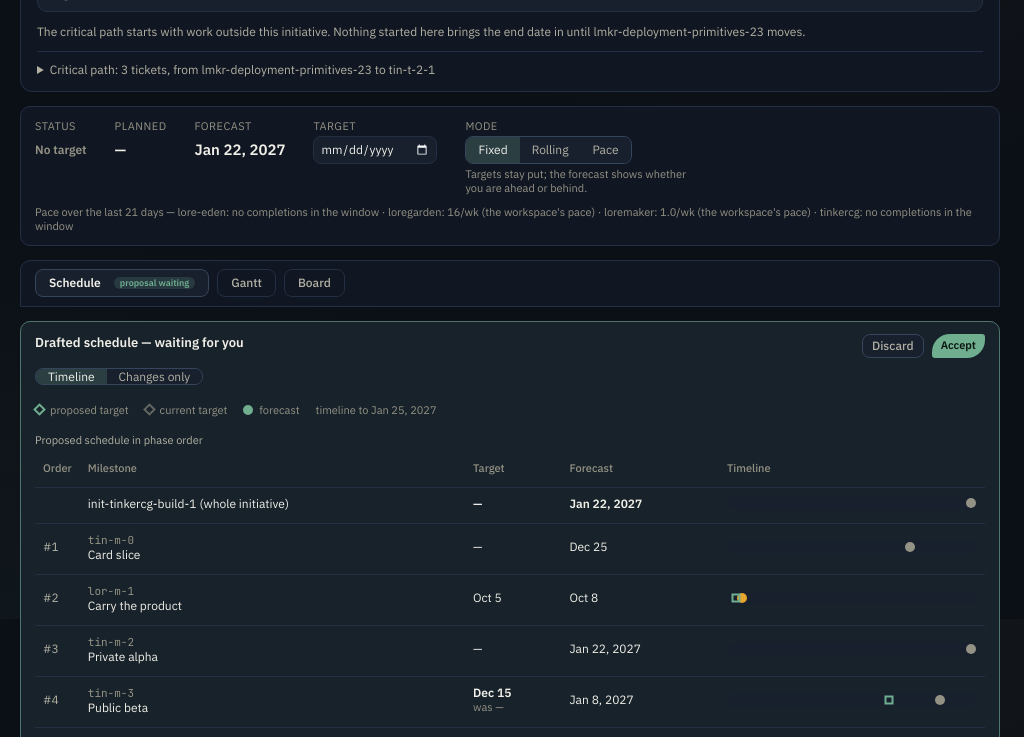
Test: a drafted schedule opens on its timeline; the changed cells are one click away
(page scrolled)
Click the button "Changes only". click: (154, 376)
box: x1=107 y1=369 x2=202 y2=384
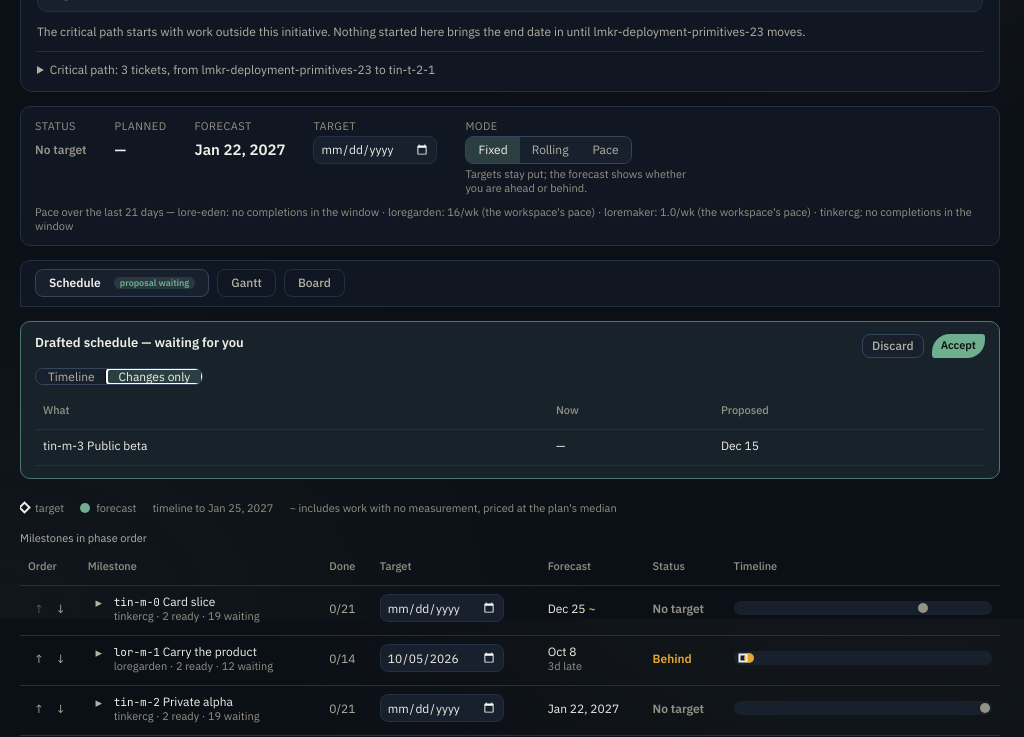
expect the column heading "Proposed" is shown: met, box x1=713 y1=395 x2=985 y2=430
expect the text "Proposed schedule in phase order" is gone: met
